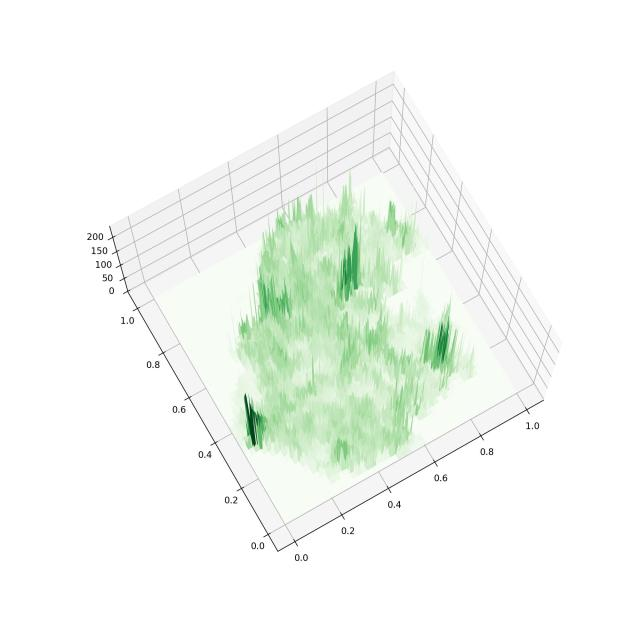pine: (76, 30, 594, 598)
